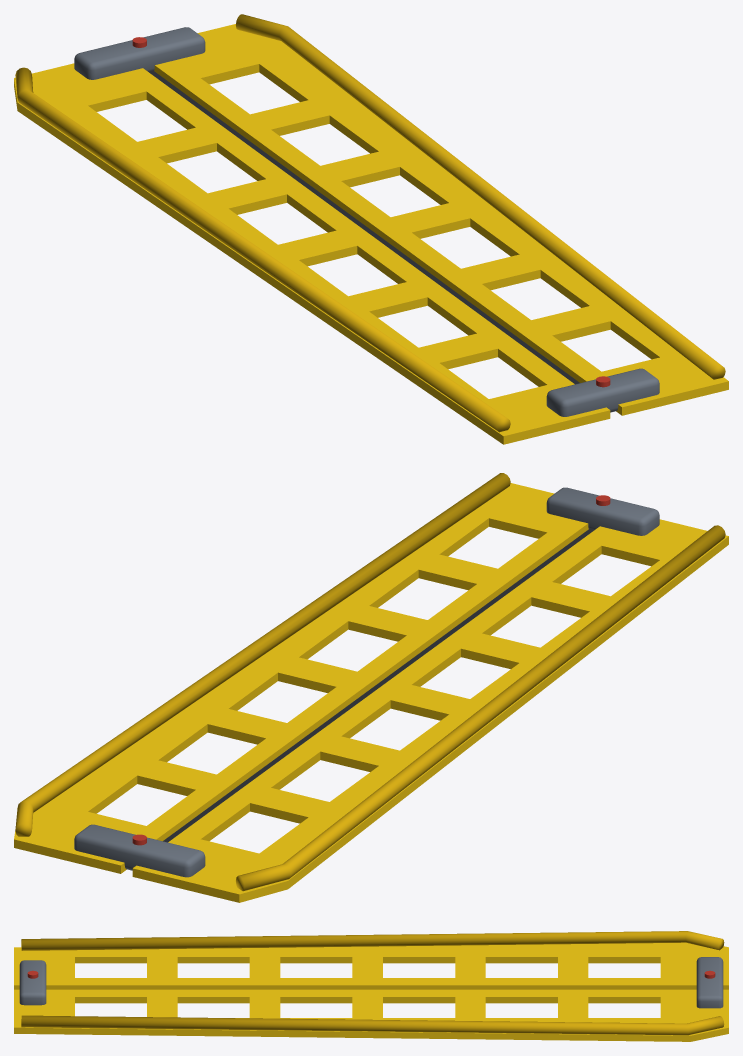
Rendered from scoop.glb.
3 renders of one model, top to bottom at view 1: azimuth 30°, elevation 25°; view 2: azimuth 150°, elevation 25°; view 3: azimuth 270°, elevation 25°, orthographic. The views are drawn at different scales.
Parts seen in each view (by area): view 1: scoop; view 2: scoop; view 3: scoop.
Part boxes in pixels (x1,y1,x2,y2): scoop: (14, 14, 728, 444); scoop: (14, 473, 728, 902); scoop: (14, 931, 728, 1041).
Size of the model in its own units: 0.6072 by 0.06 by 1.88.
